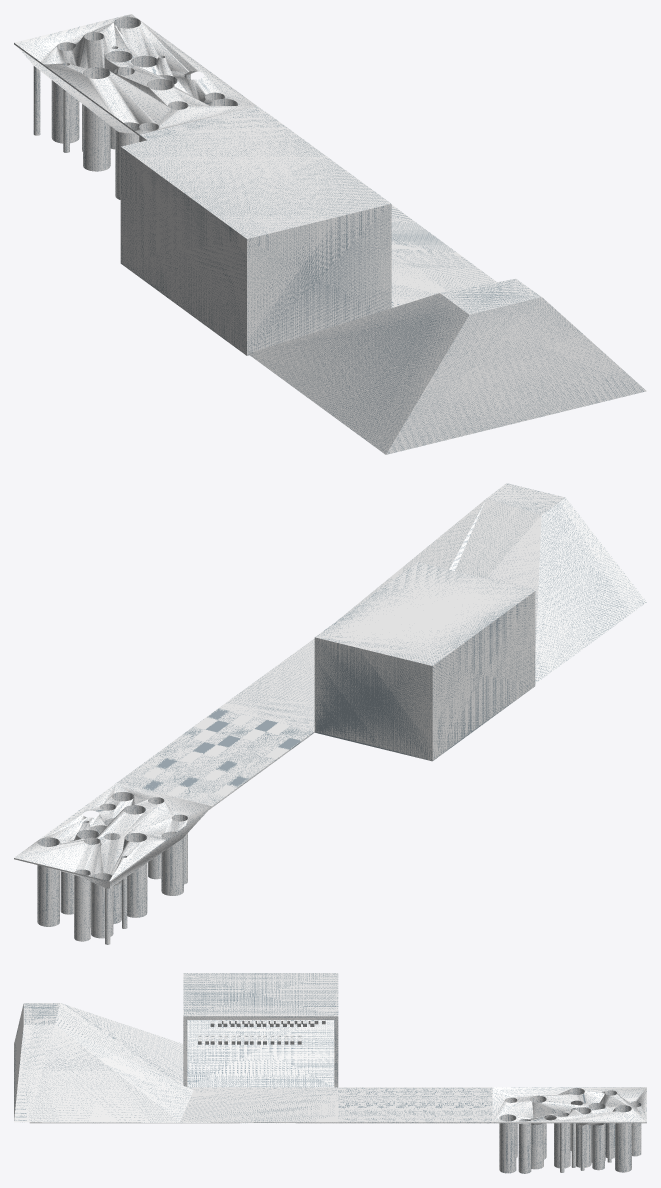
File: level3.fbx
3 renders of one model, top to bottom at view 1: azimuth 30°, elevation 25°; view 2: azimuth 150°, elevation 25°; view 3: azimuth 270°, elevation 25°, orthographic. The views are drawn at different scales.
Visible parts, largest first — view 1: Group1, Group2; view 2: Group1, Group2; view 3: Group1, Group2.
Part boxes in pixels (x1,y1,x2,y2): Group1: (14,14,646,454); Group2: (120,111,391,355); Group1: (14,483,646,944); Group2: (314,562,535,761); Group1: (14,1003,646,1173); Group2: (183,973,338,1087).
Size of the model in its own units: 68.22 by 50.35 by 232.
